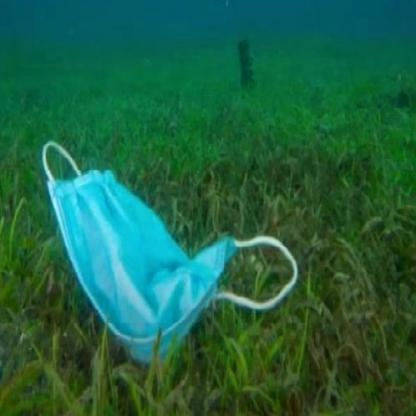misc: (24, 144, 288, 359)
